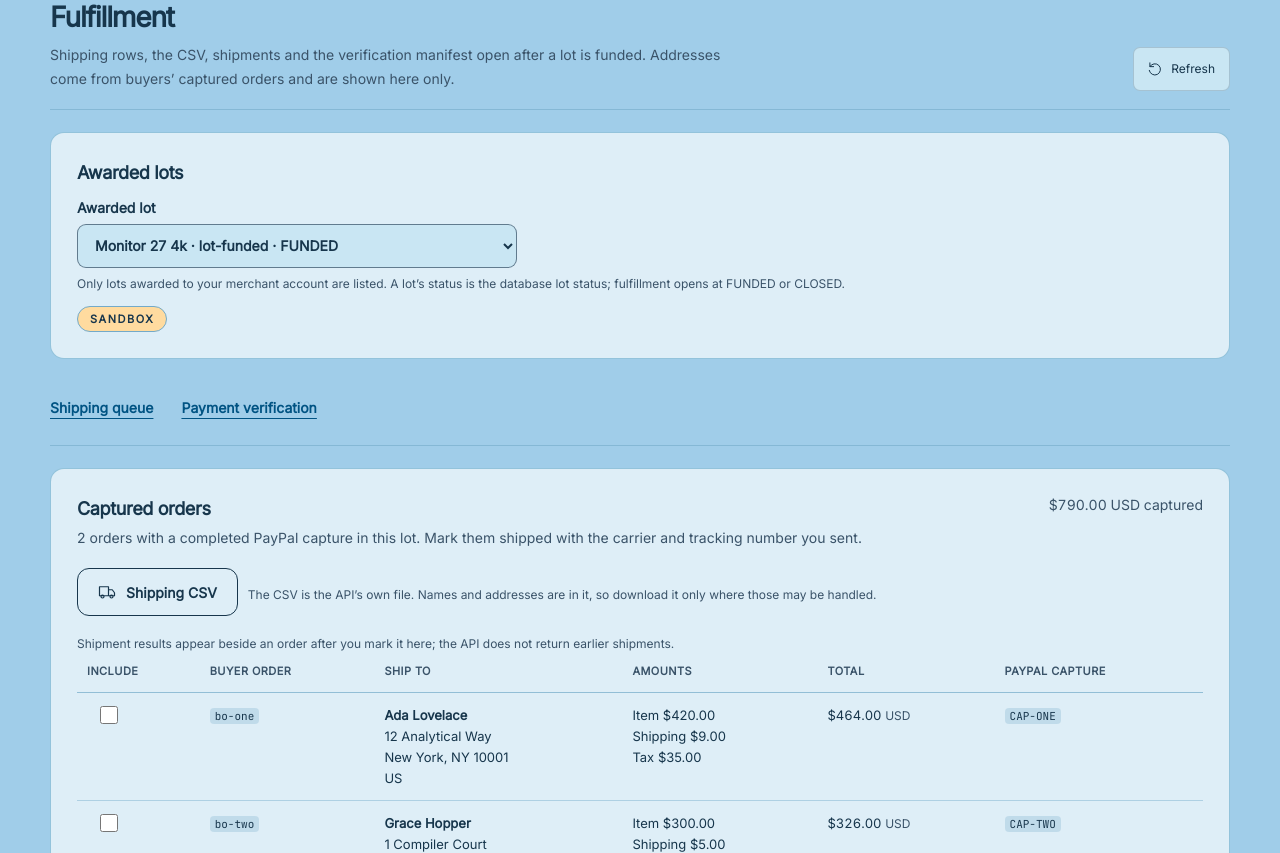
Test: Fulfillment tab › asks for an inline confirmation before recording shipments
This screenshot has width=1280, height=853.
expect the heading "Captured orders" is shown: met, box [77,498,210,520]
Click the checkbox named "Select order bo-one" at (109,715), box [100,706,118,724]
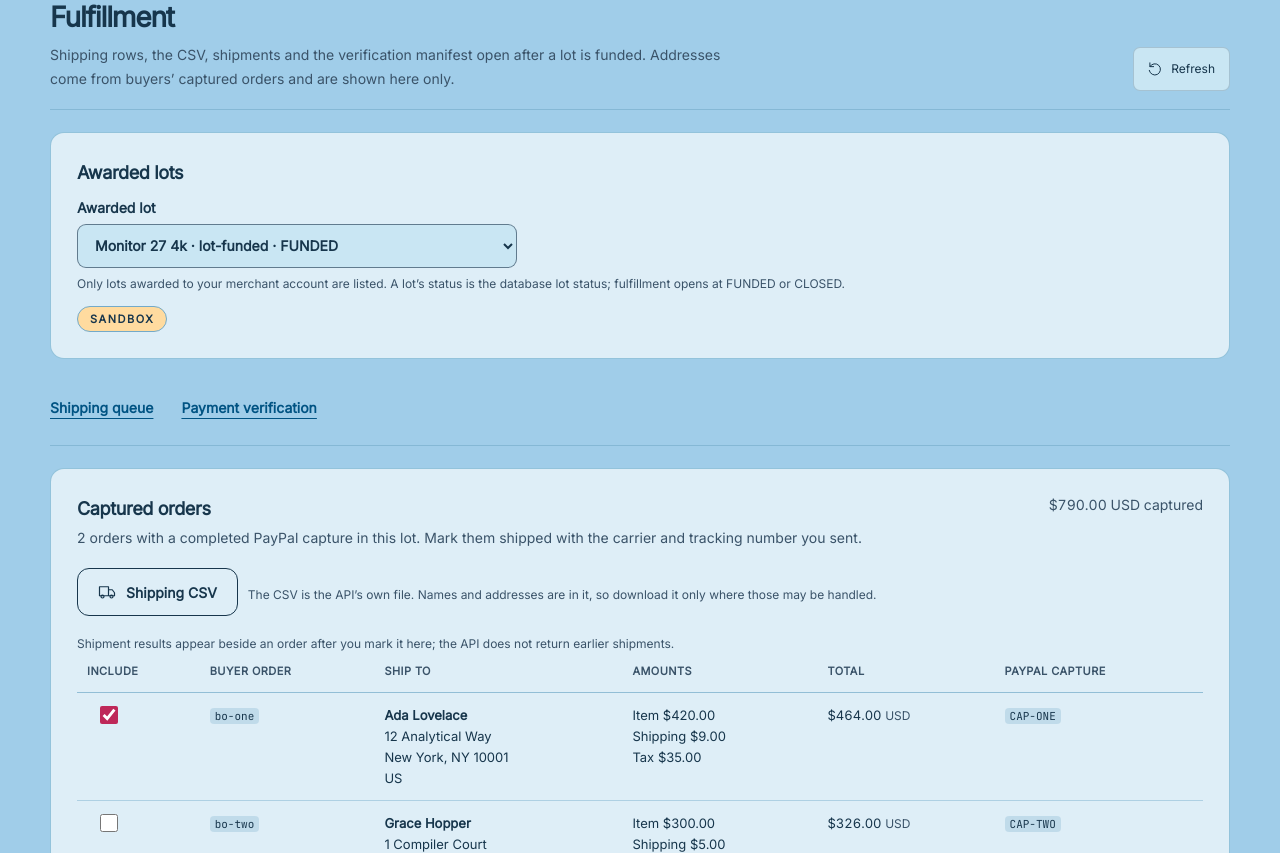
Click the checkbox named "Select order bo-two" at (109,823), box [100,814,118,832]
(page scrolled)
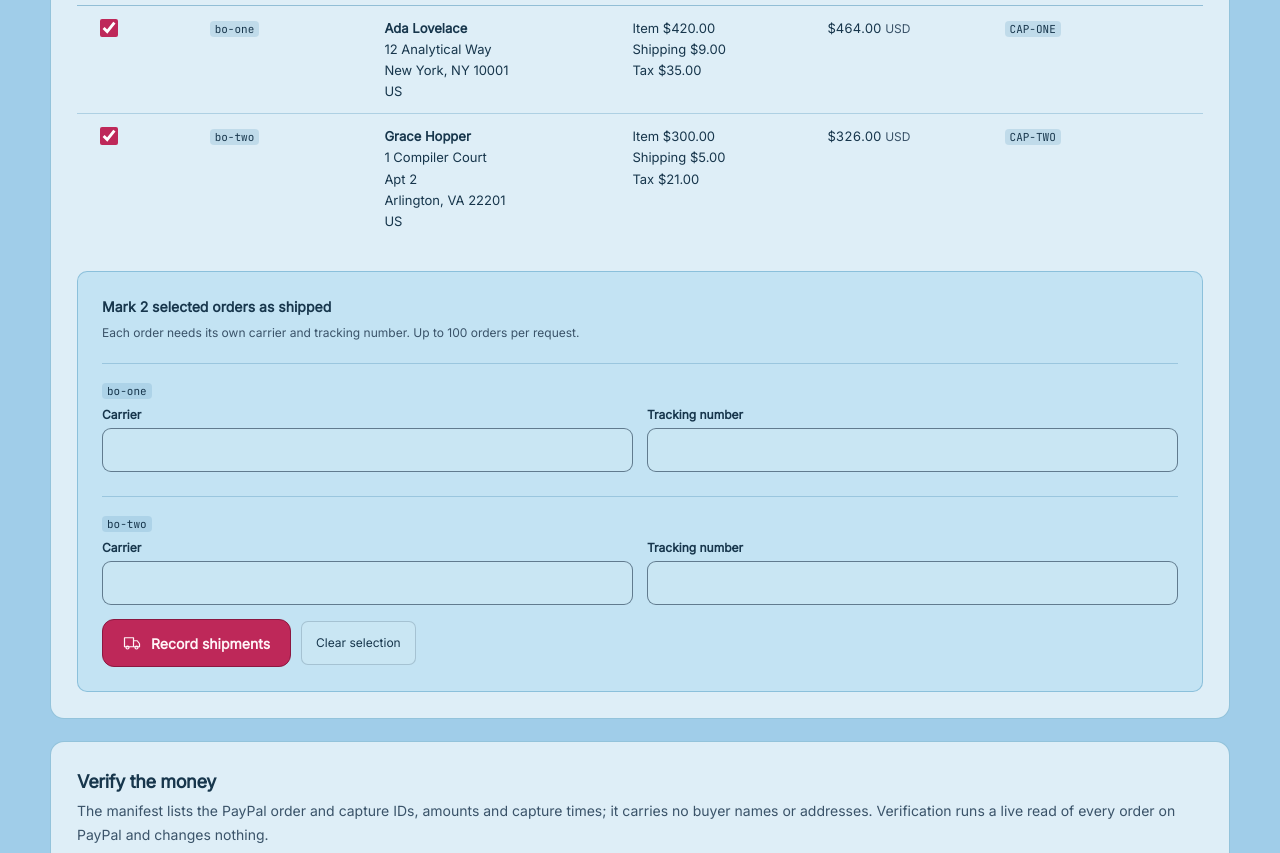
Type "UPS" into the field named "Carrier for bo-one" at (368,450), box [102,428,633,472]
Type "1Z999" into the field named "Tracking number for bo-one" at (912,450), box [647,428,1178,472]
Type "USPS" into the field named "Carrier for bo-two" at (368,583), box [102,561,633,605]
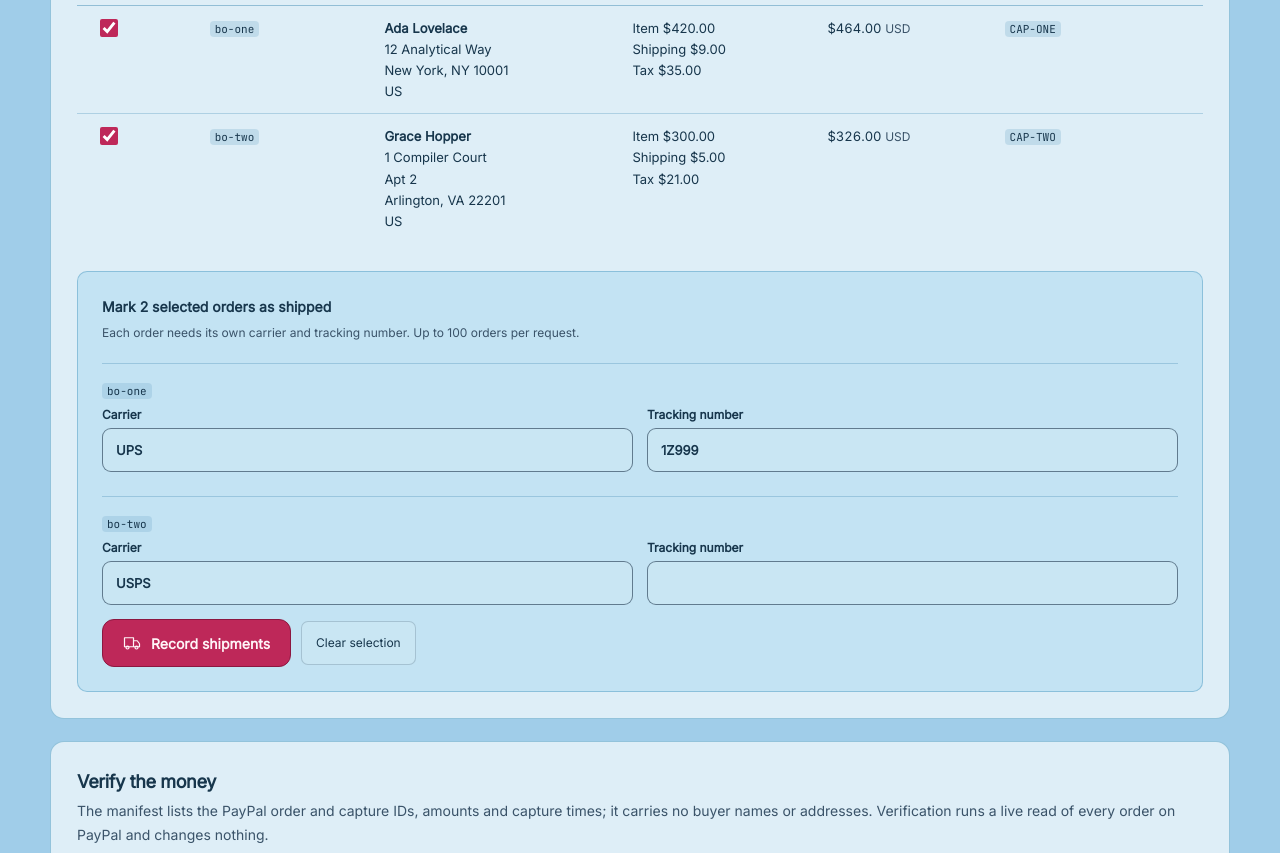
Type "9400" into the field named "Tracking number for bo-two" at (912,583), box [647,561,1178,605]
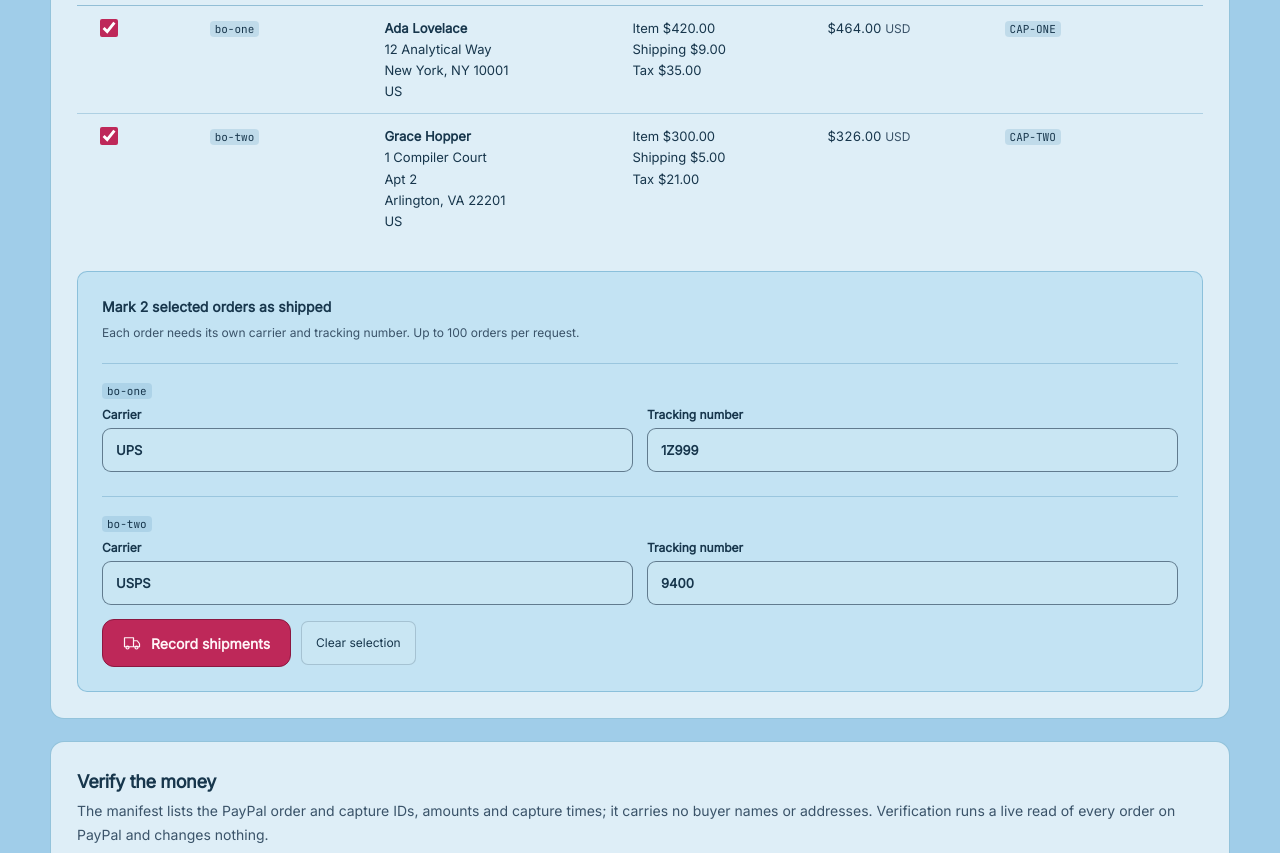
Click the button "Record shipments" at (197,643), box [102,619,291,667]
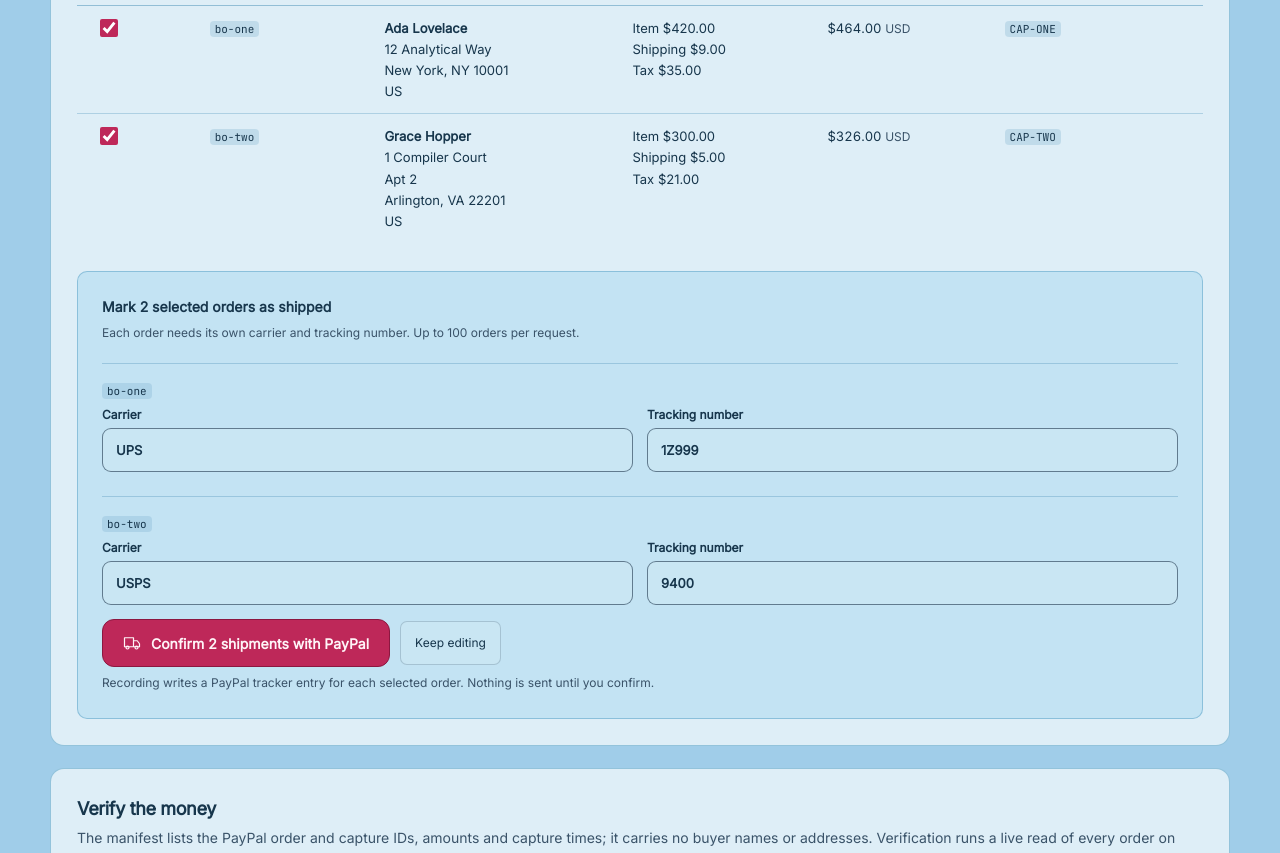
expect the text "Nothing is sent until you confirm" is shown: met, box [102,675,654,690]
Click the button "Keep editing" at (450,643), box [400,621,501,665]
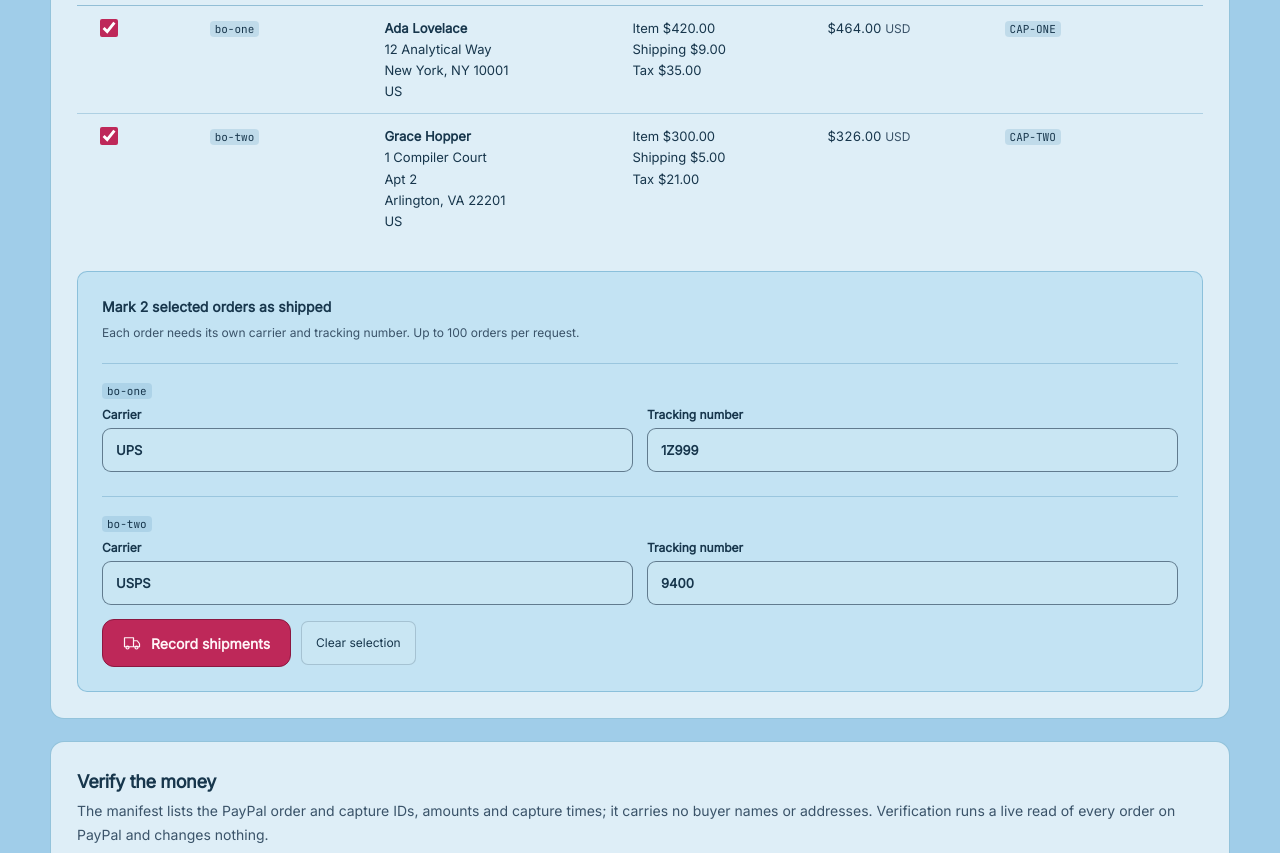
expect the button "Record shipments" is shown: met, box [102,619,291,667]
